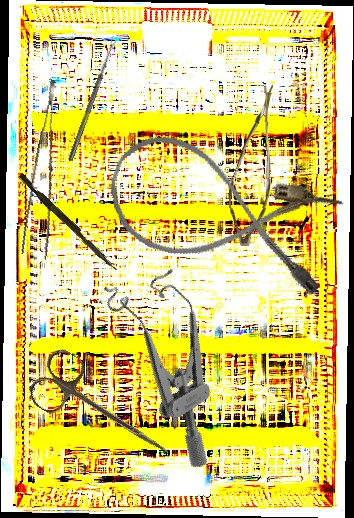Cannula: (95, 122, 349, 304)
Iris Scissors: (23, 344, 187, 477)
Micro Scissor: (225, 83, 279, 247)
Pusher: (16, 173, 121, 272)
Speculum: (85, 249, 271, 473)
Surgical Spoon: (67, 35, 119, 163)
Tissue Forceps: (11, 79, 86, 260)
